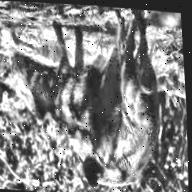boar: (60, 15, 181, 192), (7, 9, 131, 153)
